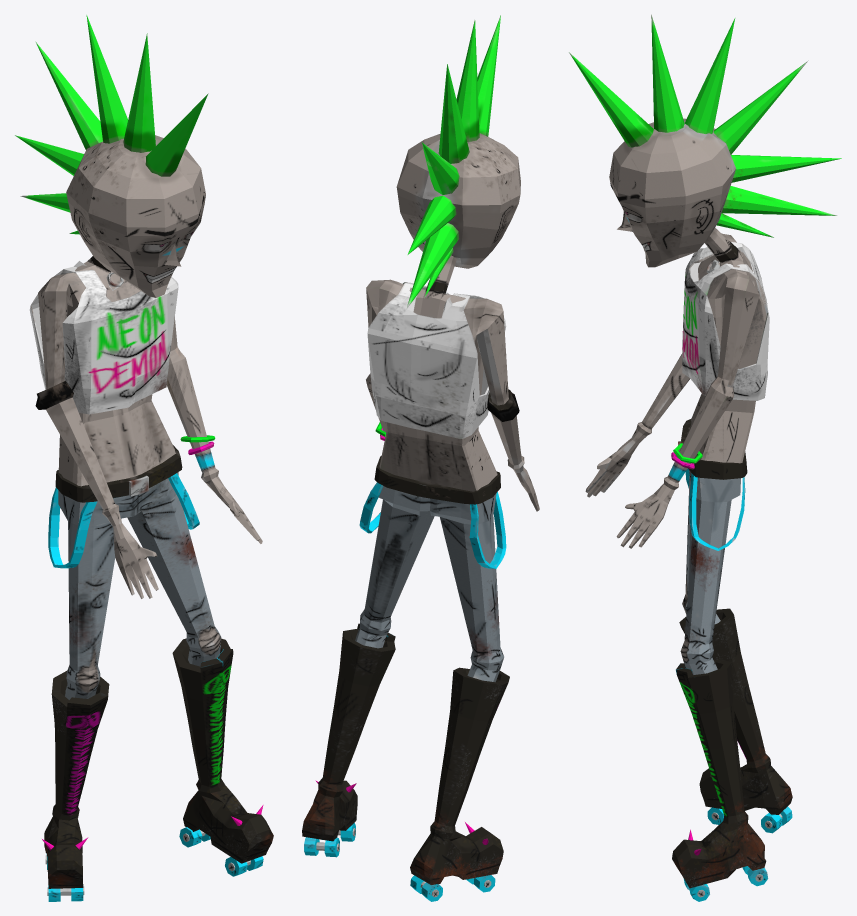
The model's file is punkAnimation_000032.obj.
3 views of the same model, side by side, from view 1: azimuth 30°, elevation 25°; view 2: azimuth 150°, elevation 25°; view 3: azimuth 270°, elevation 25° (orthographic). The views are drawn at different scales.
Visible parts, largest first — view 1: Cube.004_Cube.003; view 2: Cube.004_Cube.003; view 3: Cube.004_Cube.003.
Boxes of the visible parts, bbox=[...] form: Cube.004_Cube.003: bbox=[15, 15, 273, 901]; Cube.004_Cube.003: bbox=[302, 15, 539, 901]; Cube.004_Cube.003: bbox=[569, 14, 841, 901].
Size of the model in its own units: 1.97 by 7.51 by 2.26.
